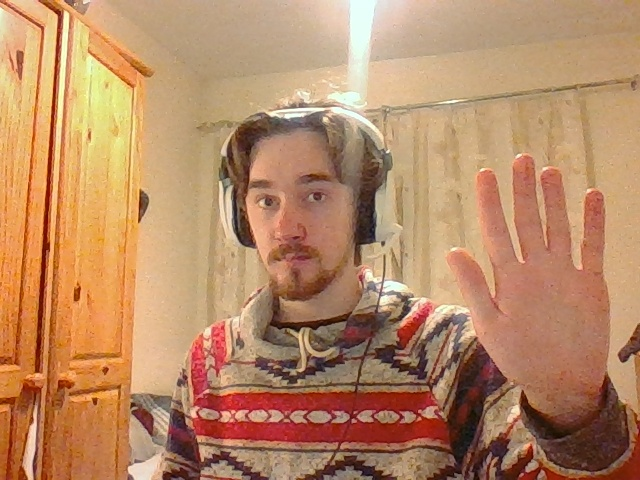hello: (440, 154, 611, 394)
